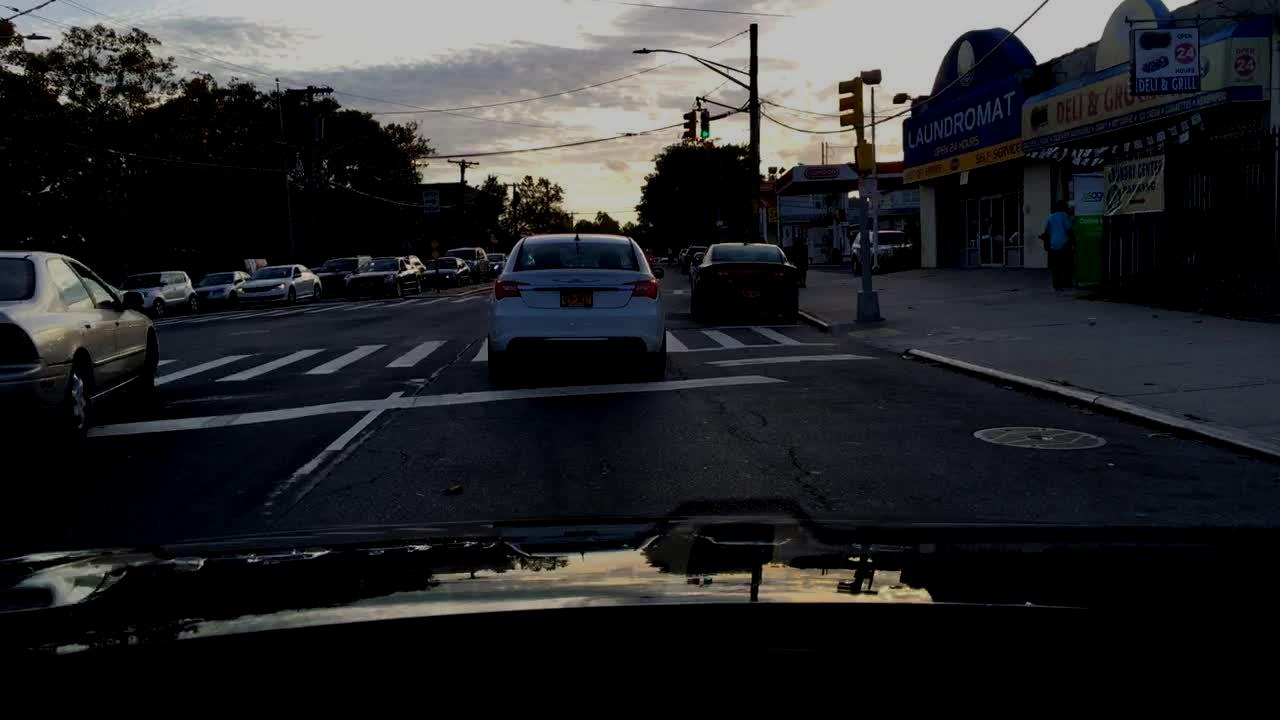Chrysler: (551, 273, 599, 284)
